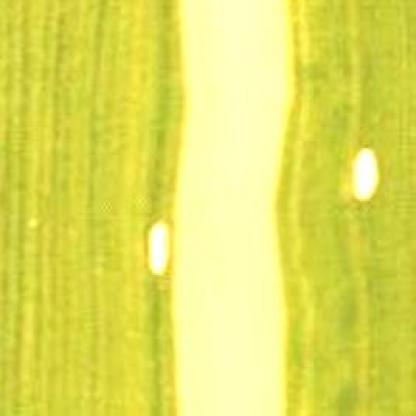whorl-maggot: (349, 136, 386, 208), (144, 217, 172, 280)
